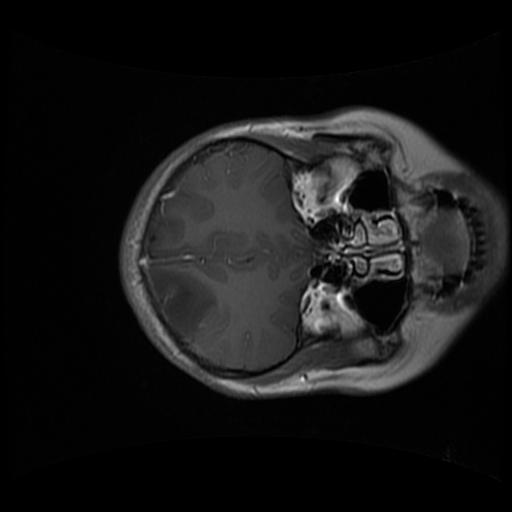glioma: (148, 264, 212, 337)
